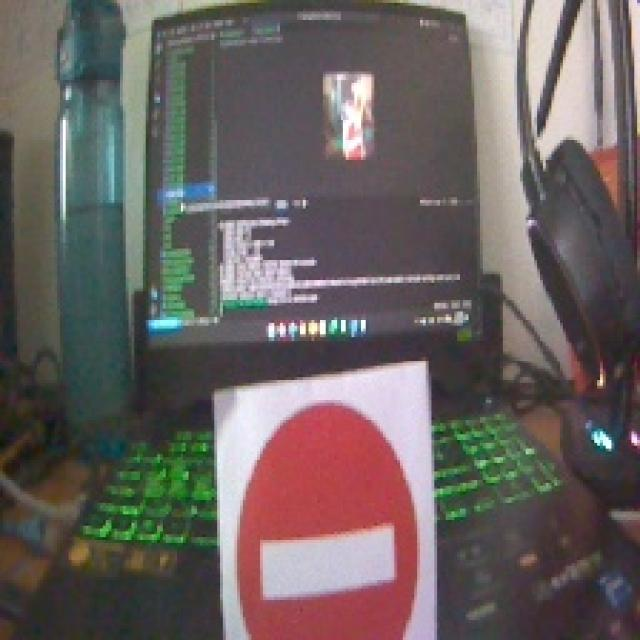DoNotEnterSign: (234, 402, 421, 640)
